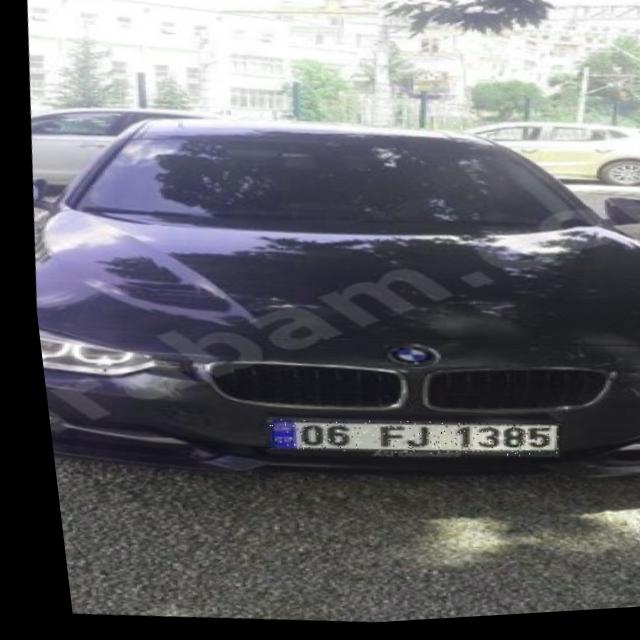license_plate: (255, 406, 549, 476)
